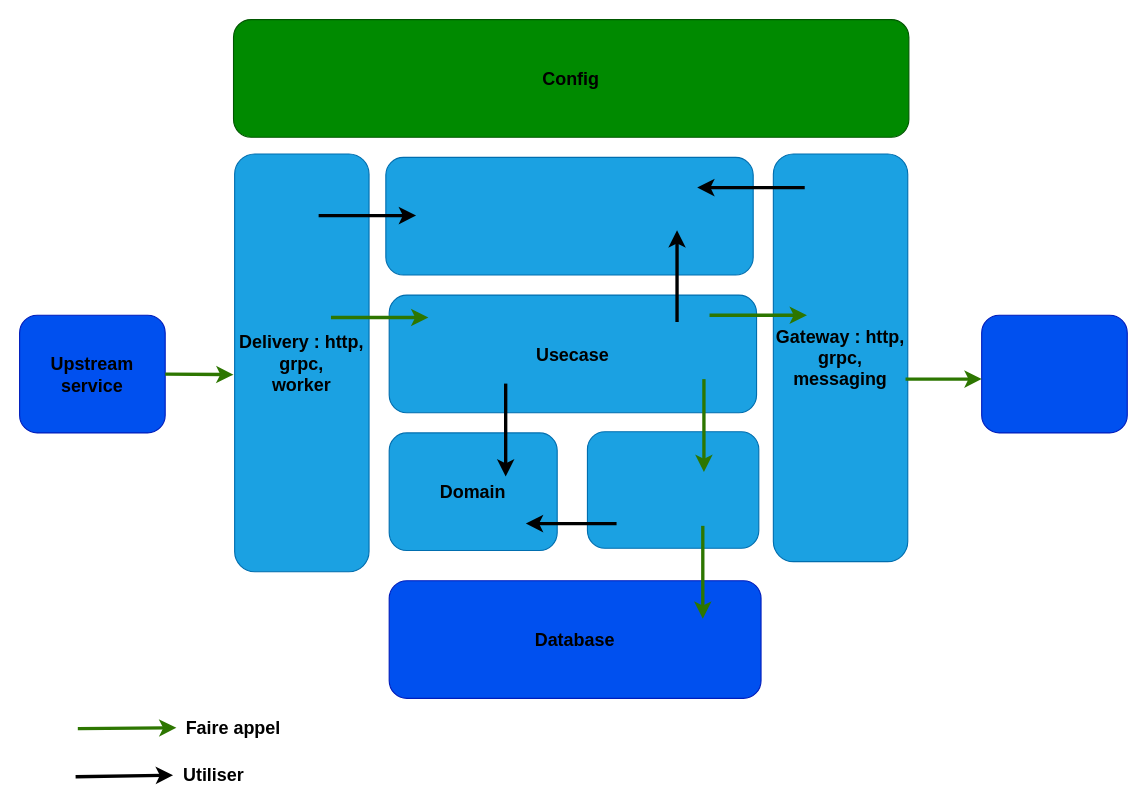
Image size: 1147x811. Some labels were removed from this diagram. The box of each missing label's shape, as (x1, y1, x2, y2) in pixels:
Downstream service: (981, 314, 1127, 433)
Model : dto, events: (385, 156, 753, 275)
Repository: (586, 431, 759, 548)
